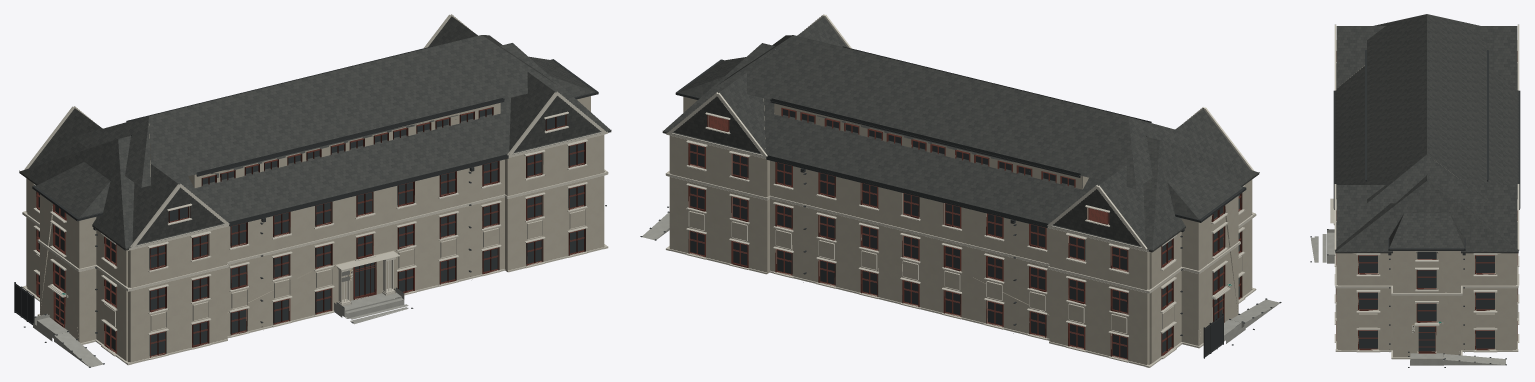
File: buildings-42-medium.glb
The picture shows the model from 3 angles, left to right: view 1: azimuth 30°, elevation 25°; view 2: azimuth 150°, elevation 25°; view 3: azimuth 270°, elevation 25°; orthographic projection. The views are drawn at different scales.
Visible parts, largest first — view 1: HB42_V13_WEB_HB42_V13_WeatheredCharcoalTile, HB42_V13_WEB_HB42_V13_WarmMineralPlaster, HB42_V13_WEB_HB42_V13_PaleStone, HB42_V13_WEB_HB42_V13_CharcoalMetal, HB42_V13_WEB_HB42_V13_GraniteSteps, HB42_V13_Component_W_06_F1_door; view 2: HB42_V13_WEB_HB42_V13_WeatheredCharcoalTile, HB42_V13_WEB_HB42_V13_WarmMineralPlaster, HB42_V13_WEB_HB42_V13_PaleStone, HB42_V13_WEB_HB42_V13_CharcoalMetal, HB42_V13_WEB_HB42_V13_GraniteSteps; view 3: HB42_V13_WEB_HB42_V13_WeatheredCharcoalTile, HB42_V13_WEB_HB42_V13_WarmMineralPlaster, HB42_V13_WEB_HB42_V13_PaleStone, HB42_V13_WEB_HB42_V13_GraniteSteps, HB42_V13_WEB_HB42_V13_CharcoalMetal, HB42_V13_Component_S_02_entry_door, HB42_V13_Component_S_02_landing_lower_window, HB42_V13_Component_S_02_landing_upper_window, HB42_V13_Component_S_01_F1_window, HB42_V13_Component_S_03_F1_window, HB42_V13_Component_S_01_F3_window, HB42_V13_Component_S_03_F3_window (+2 smaller).
Boxes of the visible parts, bbox=[...] form: HB42_V13_WEB_HB42_V13_WeatheredCharcoalTile: bbox=[19, 16, 611, 250]; HB42_V13_WEB_HB42_V13_WarmMineralPlaster: bbox=[26, 96, 604, 362]; HB42_V13_WEB_HB42_V13_PaleStone: bbox=[22, 14, 608, 365]; HB42_V13_WEB_HB42_V13_CharcoalMetal: bbox=[14, 46, 606, 367]; HB42_V13_WEB_HB42_V13_GraniteSteps: bbox=[33, 287, 408, 367]; HB42_V13_Component_W_06_F1_door: bbox=[353, 262, 376, 299]; HB42_V13_WEB_HB42_V13_WeatheredCharcoalTile: bbox=[662, 16, 1259, 252]; HB42_V13_WEB_HB42_V13_WarmMineralPlaster: bbox=[669, 96, 1252, 365]; HB42_V13_WEB_HB42_V13_PaleStone: bbox=[665, 14, 1256, 367]; HB42_V13_WEB_HB42_V13_CharcoalMetal: bbox=[640, 46, 1281, 358]; HB42_V13_WEB_HB42_V13_GraniteSteps: bbox=[642, 212, 1279, 343]; HB42_V13_WEB_HB42_V13_WeatheredCharcoalTile: bbox=[1335, 14, 1518, 253]; HB42_V13_WEB_HB42_V13_WarmMineralPlaster: bbox=[1336, 65, 1517, 358]; HB42_V13_WEB_HB42_V13_PaleStone: bbox=[1330, 24, 1519, 359]; HB42_V13_WEB_HB42_V13_GraniteSteps: bbox=[1311, 229, 1505, 365]; HB42_V13_WEB_HB42_V13_CharcoalMetal: bbox=[1310, 50, 1520, 367]; HB42_V13_Component_S_02_entry_door: bbox=[1418, 326, 1436, 353]; HB42_V13_Component_S_02_landing_lower_window: bbox=[1416, 303, 1436, 322]; HB42_V13_Component_S_02_landing_upper_window: bbox=[1416, 270, 1436, 289]; HB42_V13_Component_S_01_F1_window: bbox=[1475, 330, 1494, 350]; HB42_V13_Component_S_03_F1_window: bbox=[1358, 330, 1377, 350]; HB42_V13_Component_S_01_F3_window: bbox=[1475, 255, 1495, 274]; HB42_V13_Component_S_03_F3_window: bbox=[1358, 255, 1378, 274].
Size of the model in its own units: 39.31 by 12.88 by 14.72.
Materials: 14 (4 with a texture image).
